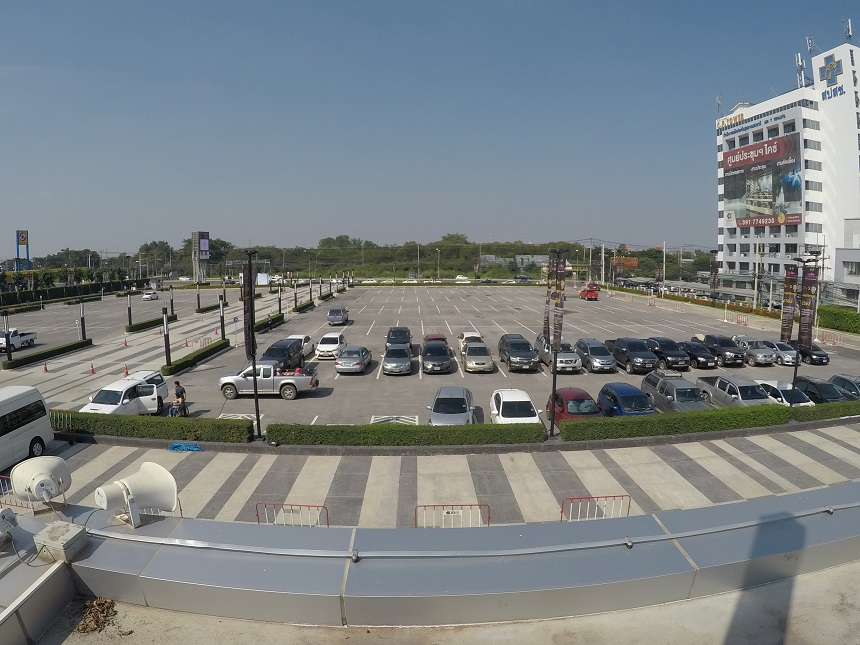busy: (3, 398, 39, 443), (98, 388, 154, 412), (433, 389, 475, 420), (548, 389, 595, 415), (655, 382, 701, 407), (714, 376, 756, 403), (489, 397, 536, 418), (603, 383, 637, 410), (767, 382, 802, 405), (335, 352, 369, 374), (383, 350, 410, 377), (261, 347, 290, 371), (422, 351, 451, 375), (552, 352, 580, 376), (659, 346, 688, 369), (462, 354, 494, 373), (623, 351, 655, 370), (507, 353, 537, 370), (591, 355, 616, 374), (809, 380, 831, 401), (691, 353, 718, 370), (749, 348, 775, 364), (838, 374, 860, 392), (803, 348, 828, 363), (724, 349, 744, 366), (781, 349, 798, 363)
